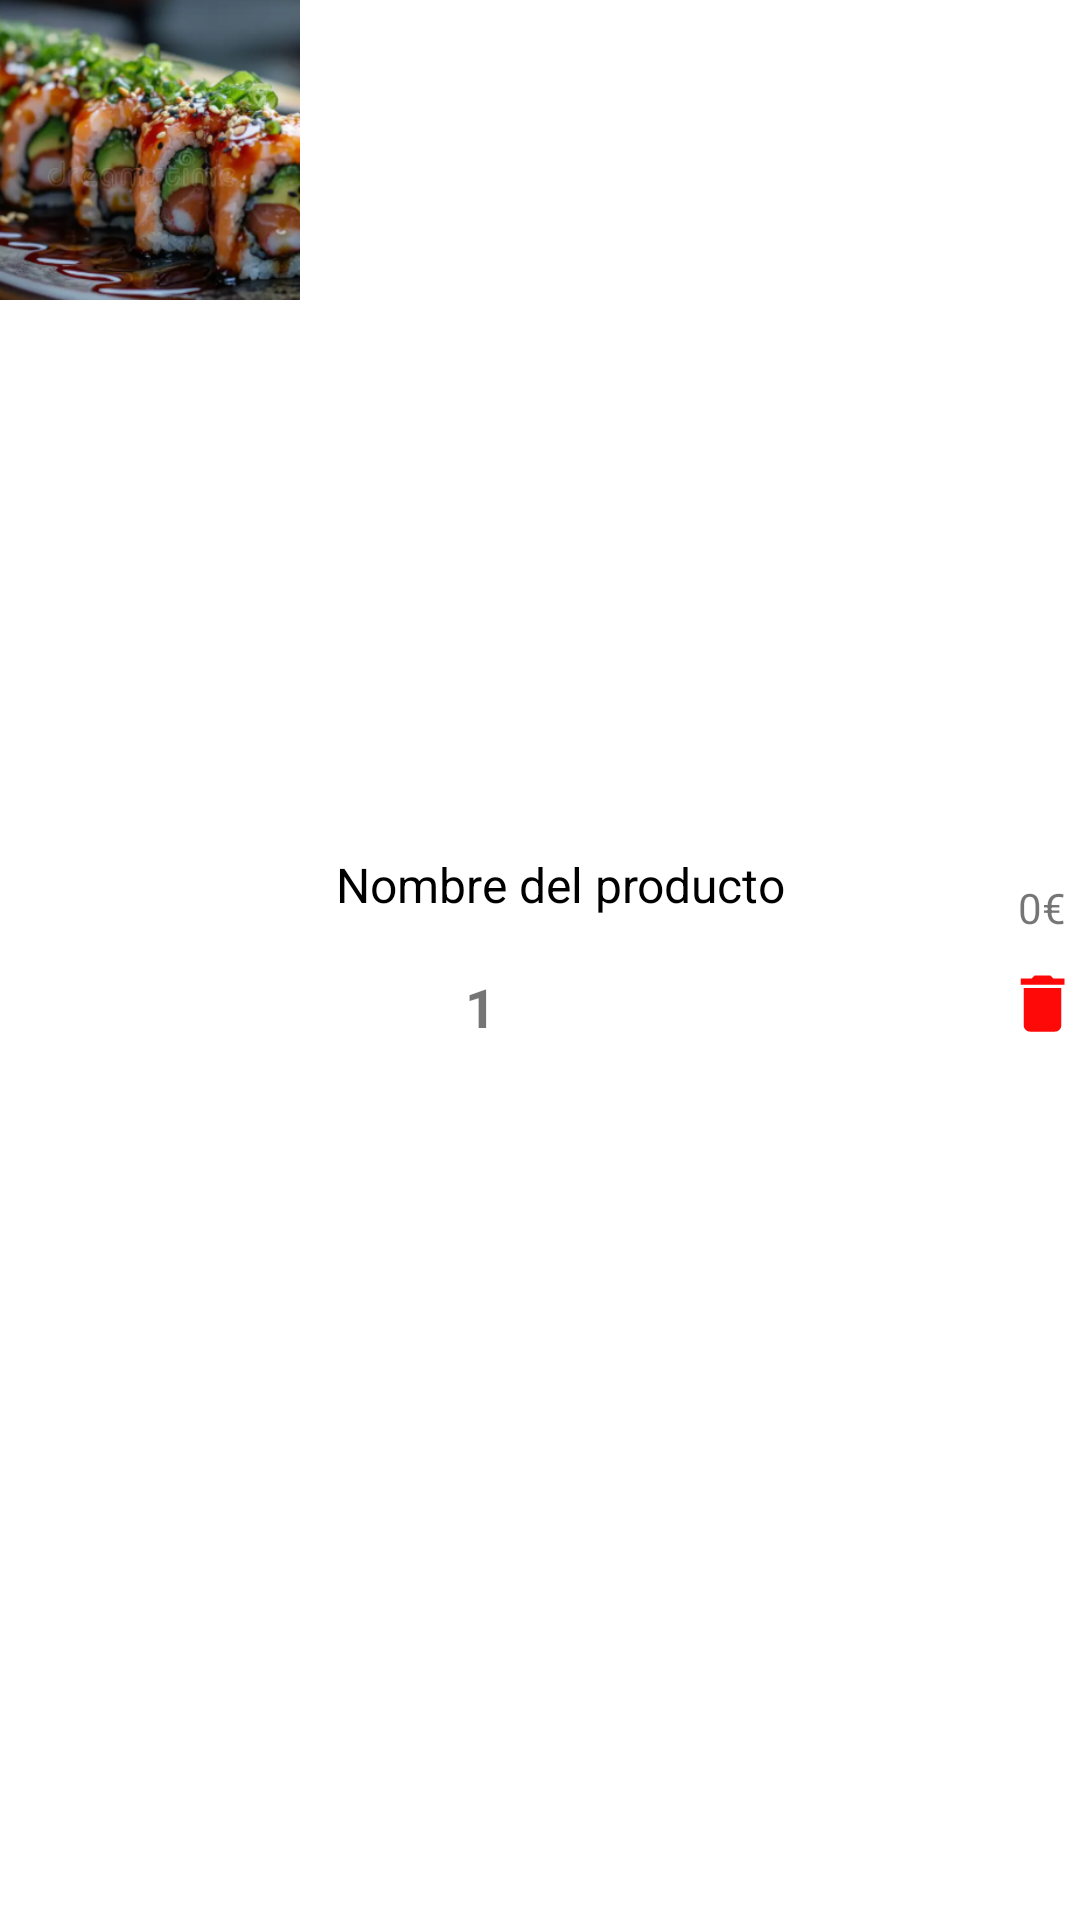

Where to tap for icons on this 1080px×1920px app screen, as (x=x, y=y):
delete: (x=1042, y=1003)
uramakis: (x=150, y=150)
